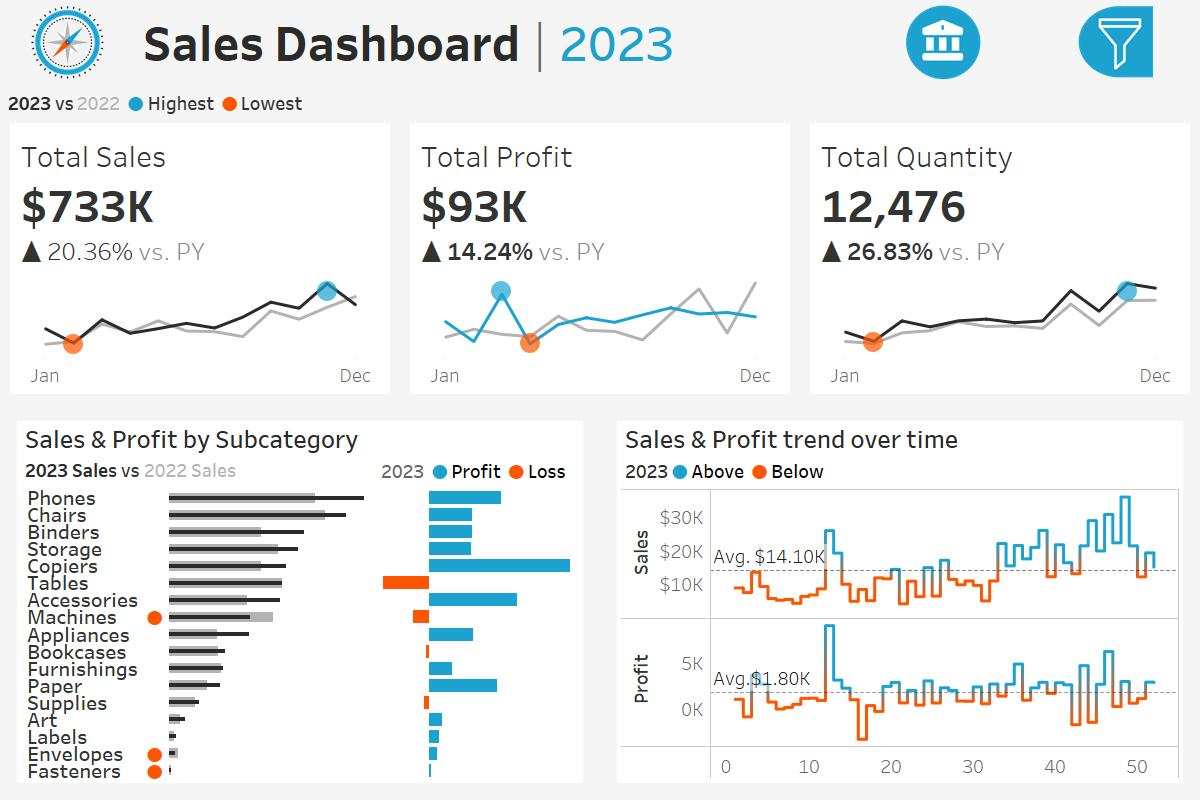

This screenshot's page, from the dashboard's own definition file:
{"tool":"tableau","page":{"name":"Sales Dashboard","canvas":[1200,800],"ordinal":0},"visuals":[{"type":"image","param":"C:/Users/prajw/Desktop/Data Projects/Tableau Project/Sales Dashboard Materials/D","box":[0,0,135,84]},{"type":"text","box":[135,0,722,84]},{"type":"dashboard-object","box":[857,0,172,84]},{"type":"dashboard-object","box":[1029,0,171,84]},{"type":"worksheet","title":"Legend KPI","mark":"Automatic","box":[0,84,1200,39]},{"type":"blank","box":[890,94,288,77]},{"type":"worksheet","title":"KPI Sales","mark":"Automatic","rows":["Calculation_2116691884884324356"],"cols":["Order Date"],"box":[0,123,400,281]},{"type":"worksheet","title":"KPI Profit","mark":"Automatic","rows":["Min/Max Sales (copy)_2116691884899577869"],"cols":["Order Date"],"box":[400,123,400,281]},{"type":"worksheet","title":"KPI Quantity","mark":"Automatic","rows":["Min/Max Sales (copy)_2116691884901634069"],"cols":["Order Date"],"box":[800,123,400,281]},{"type":"text","box":[890,171,288,42]},{"type":"parameter","param":"[Parameters].[Parameter 1]","box":[890,213,288,72]},{"type":"text","box":[890,285,288,33]},{"type":"filter","title":"KPI Sales","param":"[federated.0aq6jfb0wvmubf14tgezl1lt0zae].[none:Category:nk]","box":[890,318,288,70]},{"type":"filter","title":"KPI Sales","param":"[federated.0aq6jfb0wvmubf14tgezl1lt0zae].[none:Sub-Category:nk]","box":[890,388,288,70]},{"type":"text","box":[17,421,566,35.1]},{"type":"text","box":[617,421,566,35.1]},{"type":"worksheet","title":"Legend Subcategory","mark":"Automatic","box":[17,456.1,356,28.7]},{"type":"text","box":[373,456.1,210,28.7]},{"type":"text","box":[617,456.1,566,28.7]},{"type":"blank","box":[890,458,288,40]},{"type":"worksheet","title":"Subcategory comparison","mark":"Bar","rows":["Sub-Category","Calculation_2116691884914970648"],"cols":["CY Sales (copy)_2116691884875309057","Calculation_2116691884869832704","Calculation_2116691884899082250"],"box":[17,484.8,566,298.1]},{"type":"worksheet","title":"Weekly Trends","mark":"Automatic","rows":["Calculation_2116691884869832704","Calculation_2116691884899082250"],"cols":["Order Date"],"box":[617,484.8,566,298.2]},{"type":"text","box":[890,498,288,33]},{"type":"filter","title":"KPI Sales","param":"[federated.0aq6jfb0wvmubf14tgezl1lt0zae].[none:Region:nk]","box":[890,531,288,70]},{"type":"filter","title":"KPI Sales","param":"[federated.0aq6jfb0wvmubf14tgezl1lt0zae].[none:State:nk]","box":[890,601,288,70]},{"type":"filter","title":"KPI Sales","param":"[federated.0aq6jfb0wvmubf14tgezl1lt0zae].[none:City:nk]","box":[890,671,288,70]}]}

Visuals, with their boxes in screenshot pixels (x1, y1, x2, y2), scaled from the page's 1200x800 canvas onto the 1200x800 screenshot:
image: left=0, top=0, right=135, bottom=84
text: left=135, top=0, right=857, bottom=84
dashboard-object: left=857, top=0, right=1029, bottom=84
dashboard-object: left=1029, top=0, right=1199, bottom=84
"Legend KPI" worksheet: left=0, top=84, right=1199, bottom=123
blank: left=890, top=94, right=1178, bottom=171
"KPI Sales" worksheet: left=0, top=123, right=400, bottom=404
"KPI Profit" worksheet: left=400, top=123, right=800, bottom=404
"KPI Quantity" worksheet: left=800, top=123, right=1199, bottom=404
text: left=890, top=171, right=1178, bottom=213
parameter: left=890, top=213, right=1178, bottom=285
text: left=890, top=285, right=1178, bottom=318
"KPI Sales" filter: left=890, top=318, right=1178, bottom=388
"KPI Sales" filter: left=890, top=388, right=1178, bottom=458
text: left=17, top=421, right=583, bottom=456
text: left=617, top=421, right=1183, bottom=456
"Legend Subcategory" worksheet: left=17, top=456, right=373, bottom=485
text: left=373, top=456, right=583, bottom=485
text: left=617, top=456, right=1183, bottom=485
blank: left=890, top=458, right=1178, bottom=498
"Subcategory comparison" worksheet (Bar marks): left=17, top=485, right=583, bottom=783
"Weekly Trends" worksheet: left=617, top=485, right=1183, bottom=783
text: left=890, top=498, right=1178, bottom=531
"KPI Sales" filter: left=890, top=531, right=1178, bottom=601
"KPI Sales" filter: left=890, top=601, right=1178, bottom=671
"KPI Sales" filter: left=890, top=671, right=1178, bottom=741
